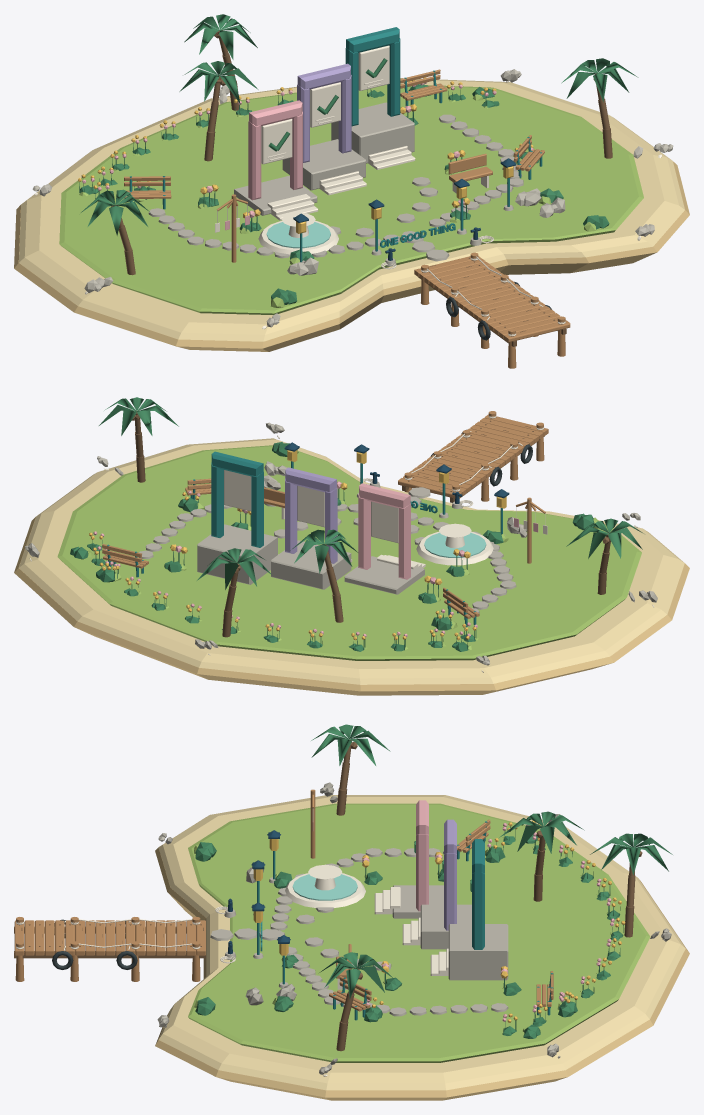
File: affirmation.glb
3 renders of one model, top to bottom at view 1: azimuth 30°, elevation 25°; view 2: azimuth 150°, elevation 25°; view 3: azimuth 270°, elevation 25°, orthographic. The views are drawn at different scales.
Visible parts, largest first — view 1: static_grass, static_sand, static_stone, static_wood, static_sandEdge, static_leafPalm, static_ivory, static_teal, static_pink, static_leaf, static_lilac, static_darkWood (+6 smaller); view 2: static_grass, static_sand, static_stone, static_wood, static_sandEdge, static_leafPalm, static_leaf, static_teal, static_pink, static_lilac, static_ivory, static_darkWood (+6 smaller); view 3: static_grass, static_sand, static_stone, static_wood, static_sandEdge, static_leafPalm, static_leaf, static_ivory, static_darkWood, static_teal, static_pink, static_yellow (+2 smaller).
Part boxes in pixels (<box>): static_grass: <box>59,84,643,314</box>; static_sand: <box>19,78,684,341</box>; static_stone: <box>32,69,673,327</box>; static_wood: <box>124,69,570,368</box>; static_sandEdge: <box>14,121,689,351</box>; static_leafPalm: <box>81,14,638,235</box>; static_ivory: <box>34,80,661,336</box>; static_teal: <box>129,27,542,262</box>; static_pink: <box>82,82,533,230</box>; static_leaf: <box>79,84,609,304</box>; static_lilac: <box>297,63,351,162</box>; static_darkWood: <box>111,30,612,346</box>; static_grass: <box>57,445,641,660</box>; static_sand: <box>18,438,684,684</box>; static_stone: <box>25,422,657,665</box>; static_wood: <box>102,411,548,618</box>; static_sandEdge: <box>14,497,689,695</box>; static_leafPalm: <box>99,397,643,589</box>; static_leaf: <box>70,442,594,651</box>; static_teal: <box>107,451,502,627</box>; static_pink: <box>93,481,538,637</box>; static_lilac: <box>285,467,337,563</box>; static_ivory: <box>29,416,654,672</box>; static_darkWood: <box>132,410,610,637</box>; static_grass: <box>188,803,650,1062</box>; static_sand: <box>158,795,685,1090</box>; static_stone: <box>157,782,671,1074</box>; static_wood: <box>14,789,553,1011</box>; static_sandEdge: <box>155,847,689,1100</box>; static_leafPalm: <box>311,724,672,998</box>; static_leaf: <box>195,826,623,1038</box>; static_ivory: <box>16,793,560,1076</box>; static_darkWood: <box>14,740,642,1051</box>; static_teal: <box>257,821,553,1020</box>; static_pink: <box>312,800,614,1021</box>; static_yellow: <box>253,820,625,1022</box>.
Size of the model in its own units: 29 by 6.7 by 27.8.
